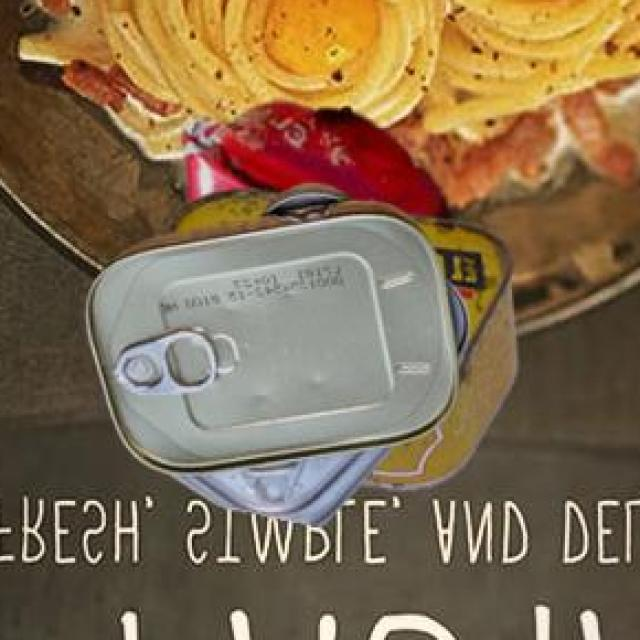logam: (83, 186, 467, 529), (162, 193, 513, 495), (180, 105, 445, 223)
